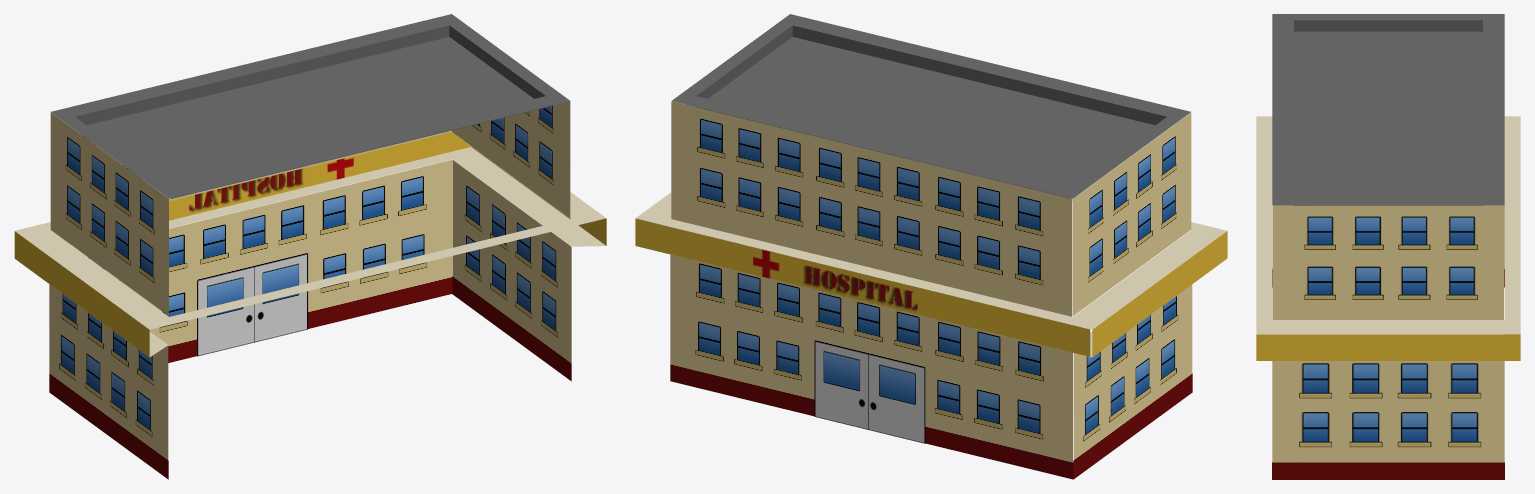
Rendered from Building 3.fbx.
3 renders of one model, left to right at view 1: azimuth 30°, elevation 25°; view 2: azimuth 150°, elevation 25°; view 3: azimuth 270°, elevation 25°, orthographic. The views are drawn at different scales.
Visible parts, largest first — view 1: Hospital; view 2: Hospital; view 3: Hospital.
Part boxes in pixels (bbox=[...]): Hospital: bbox=[14, 14, 606, 479]; Hospital: bbox=[635, 14, 1227, 479]; Hospital: bbox=[1256, 14, 1520, 479].
Size of the model in its own units: 1810 by 1063 by 928.
3 materials, 1 textured.
